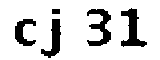1: (116, 7, 149, 53)
3: (78, 6, 113, 50)
c: (9, 16, 39, 50)
j: (38, 6, 67, 60)
